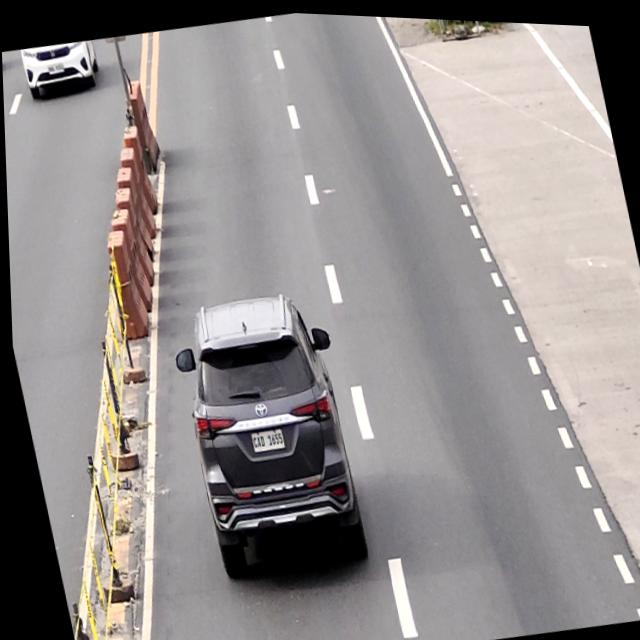Car: (160, 283, 376, 591)
License-Plate: (246, 424, 282, 451)
